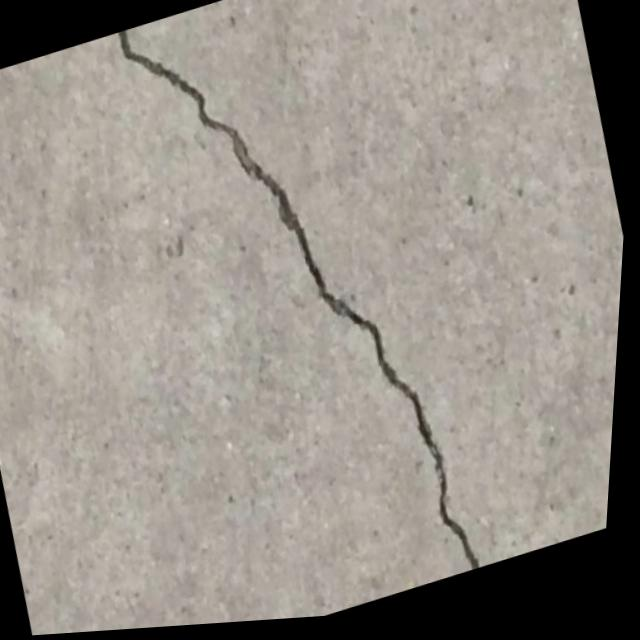Crack: (85, 0, 531, 634)
